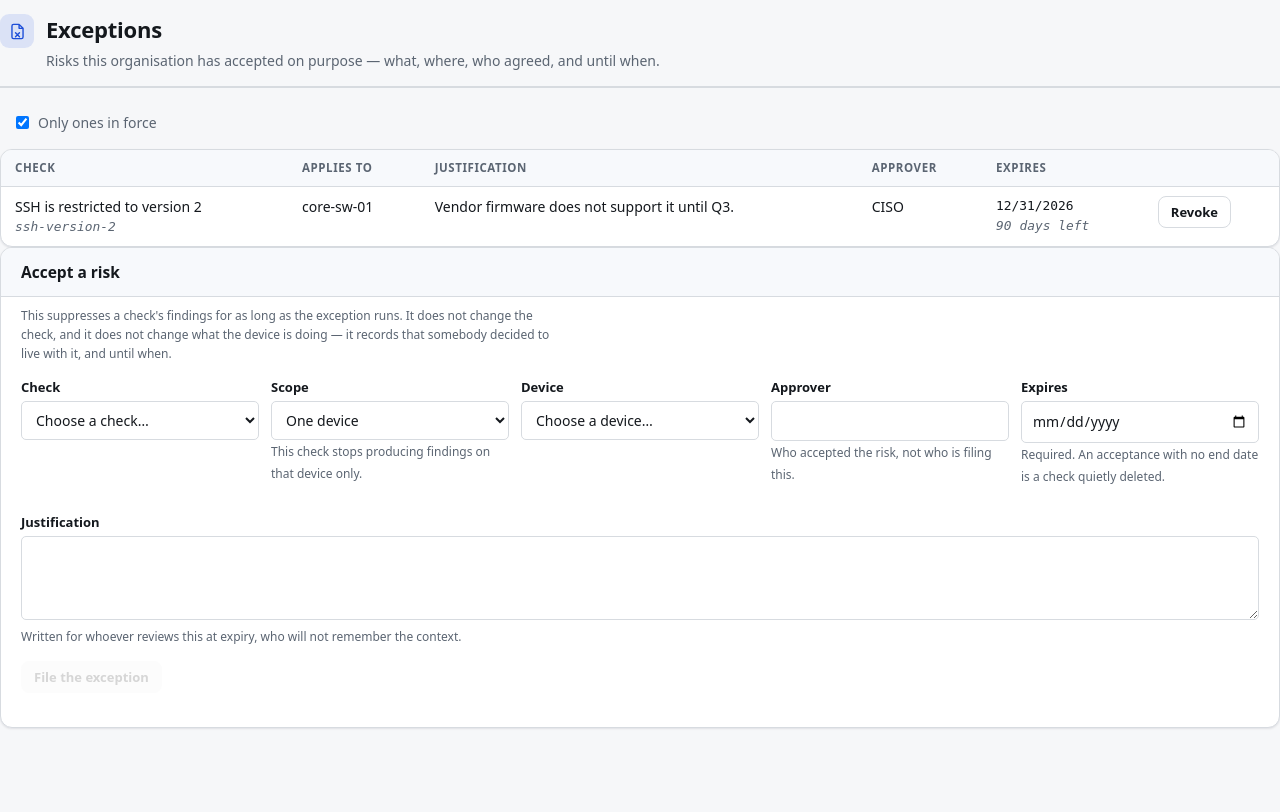
Test: ExceptionsPage › filing one › asks for a group instead when the scope is a group
Step 1. Select "A device group" in the dropdown labelled "Scope" → [390, 421], box [271,401,509,440]
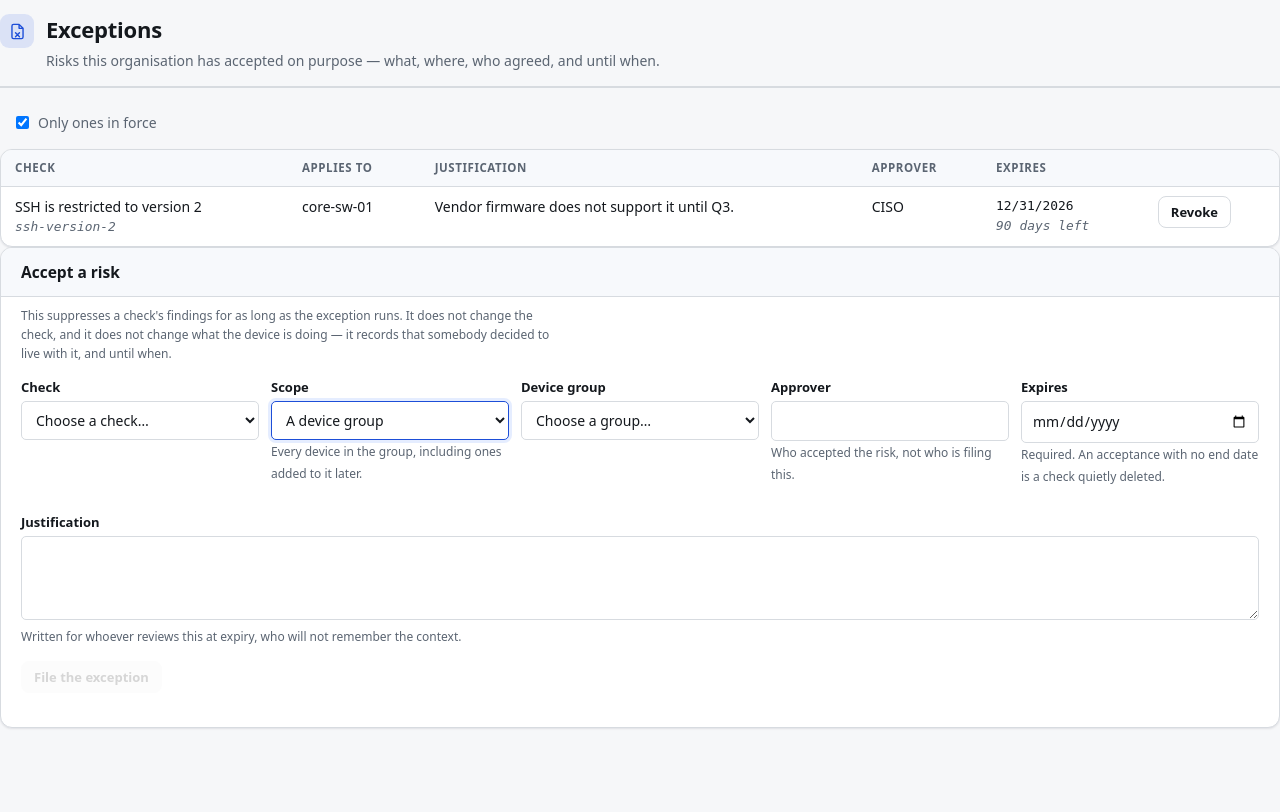
Check: the dropdown labelled "Device group" is shown, box [521,401,759,440]
